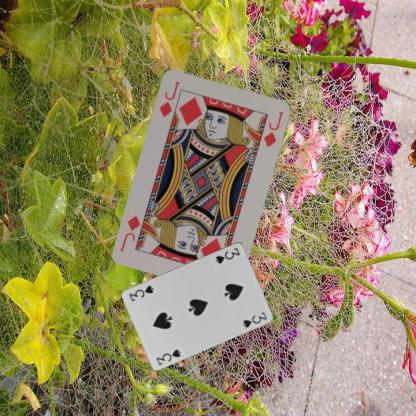3s: (213, 244, 241, 264), (154, 346, 182, 366)
Jd: (156, 78, 181, 118)
